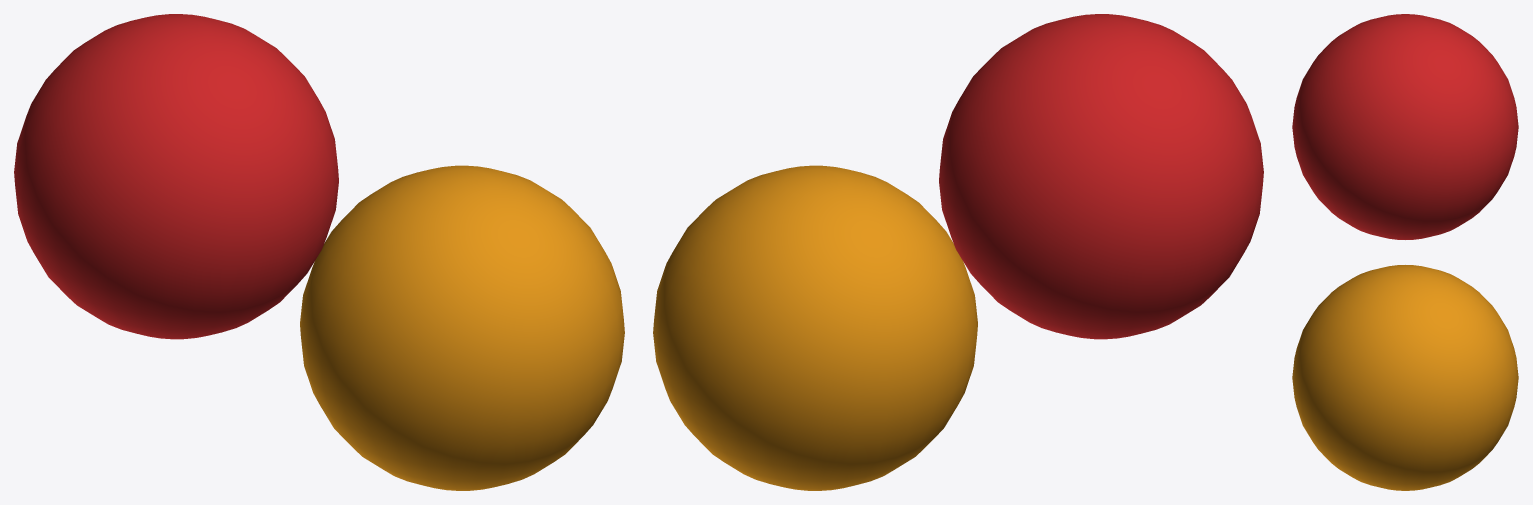
File: controller.glb
The picture shows the model from 3 angles, left to right: view 1: azimuth 30°, elevation 25°; view 2: azimuth 150°, elevation 25°; view 3: azimuth 270°, elevation 25°; orthographic projection. The views are drawn at different scales.
Visible parts, largest first — view 1: Sphere, Sphere.002; view 2: Sphere, Sphere.002; view 3: Sphere, Sphere.002.
Part boxes in pixels (x1,y1,x2,y2): Sphere: [14, 14, 338, 339]; Sphere.002: [300, 165, 624, 490]; Sphere: [939, 14, 1263, 339]; Sphere.002: [653, 165, 977, 490]; Sphere: [1292, 14, 1518, 239]; Sphere.002: [1292, 265, 1518, 490].
Size of the model in its own units: 4.03 by 3.5 by 2.
